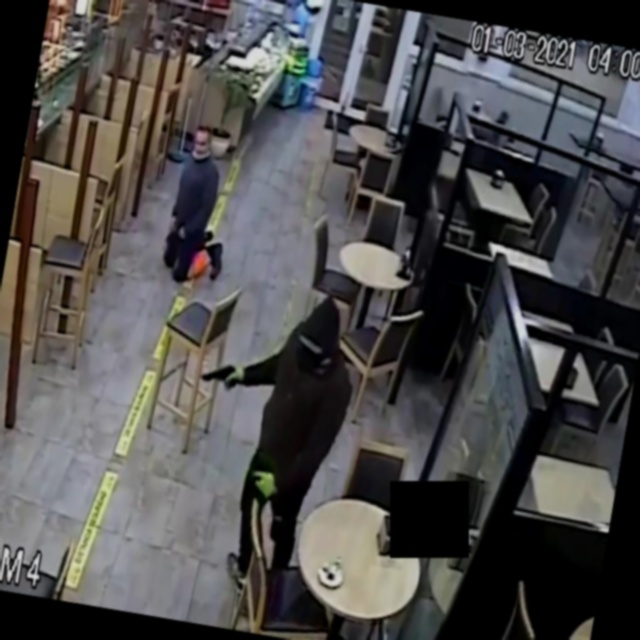gun: (186, 345, 255, 410)
